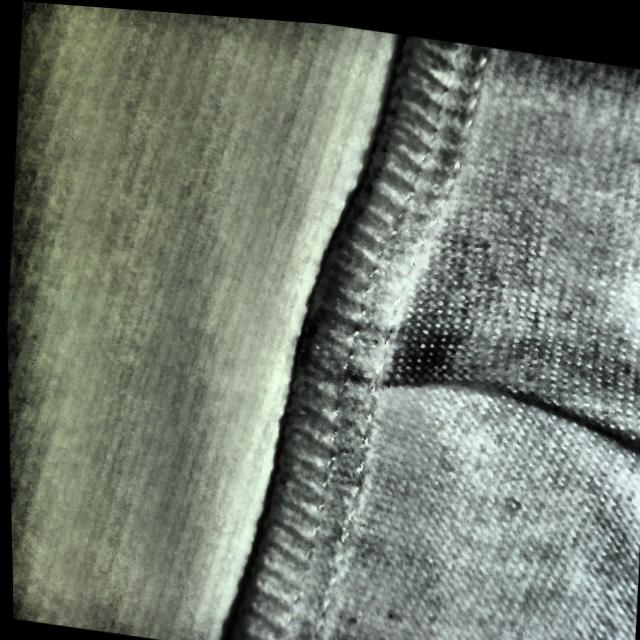seam: (287, 260, 637, 490)
